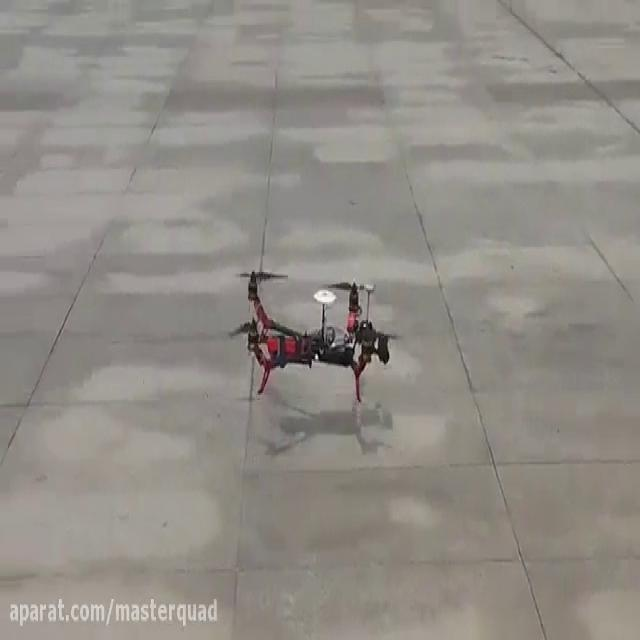drone: (221, 261, 404, 411)
